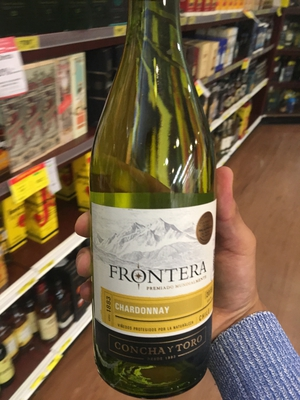frontera chardonnay: (93, 14, 223, 387)
